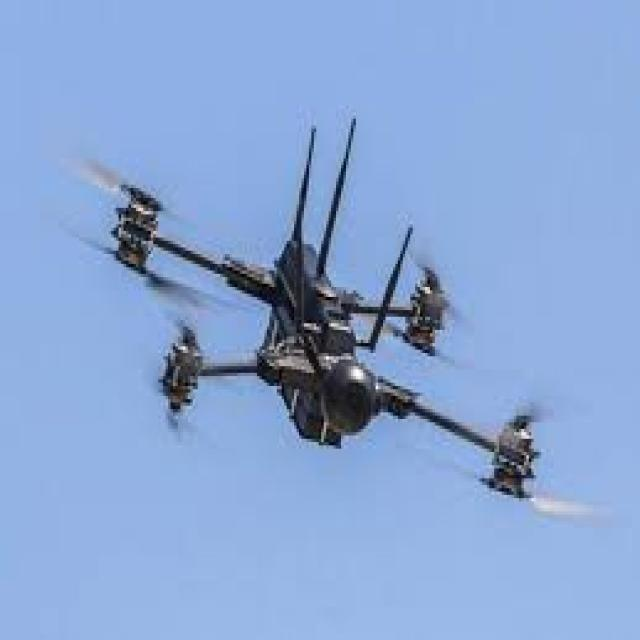drone: (38, 122, 607, 551)
